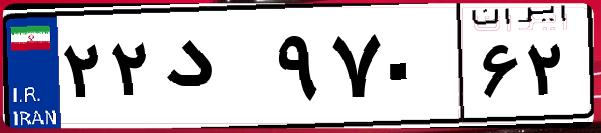0: (385, 28, 445, 110)
2: (57, 26, 110, 100), (525, 38, 570, 115), (110, 28, 158, 98)
6: (475, 38, 525, 113)
7: (330, 28, 385, 110)
9: (270, 28, 330, 110)
د: (158, 20, 270, 120)
